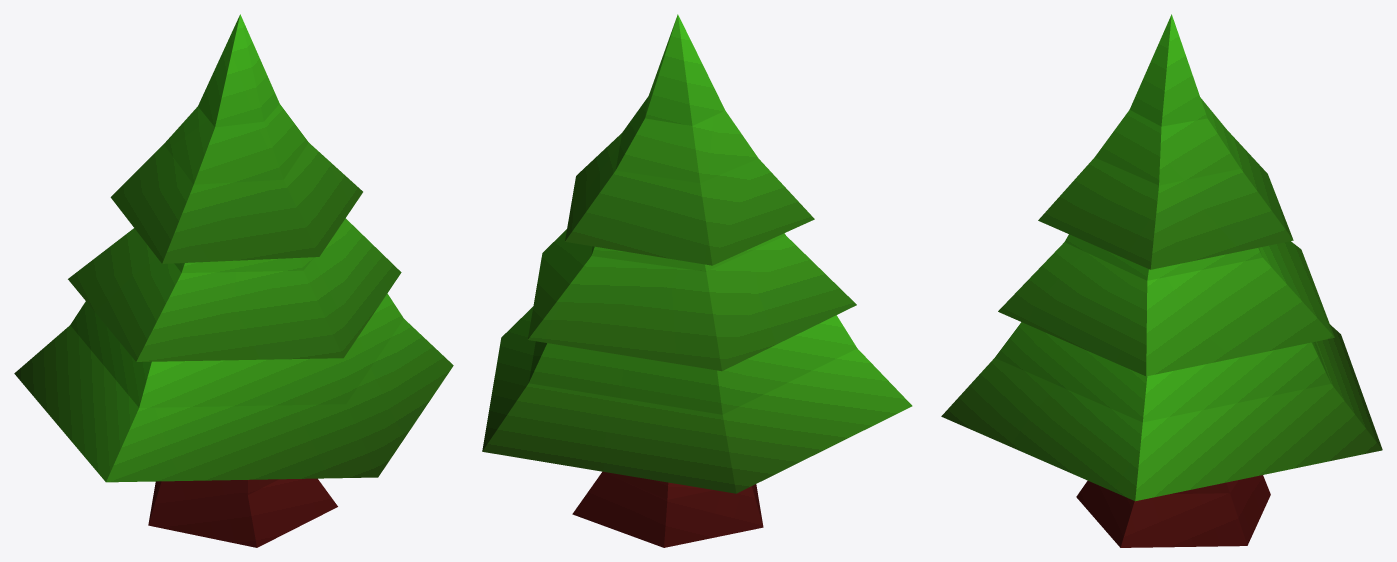
The model's file is piney.gltf.
3 views of the same model, side by side, from view 1: azimuth 30°, elevation 25°; view 2: azimuth 150°, elevation 25°; view 3: azimuth 270°, elevation 25° (orthographic).
Parts seen in each view (by area): view 1: Piney; view 2: Piney; view 3: Piney.
Boxes of the visible parts, <box> form: Piney: <box>14,14,453,547</box>; Piney: <box>482,14,912,547</box>; Piney: <box>941,14,1382,547</box>.
Size of the model in its own units: 0.8898 by 1.1 by 0.8835.
Materials: 1 (1 with a texture image).
